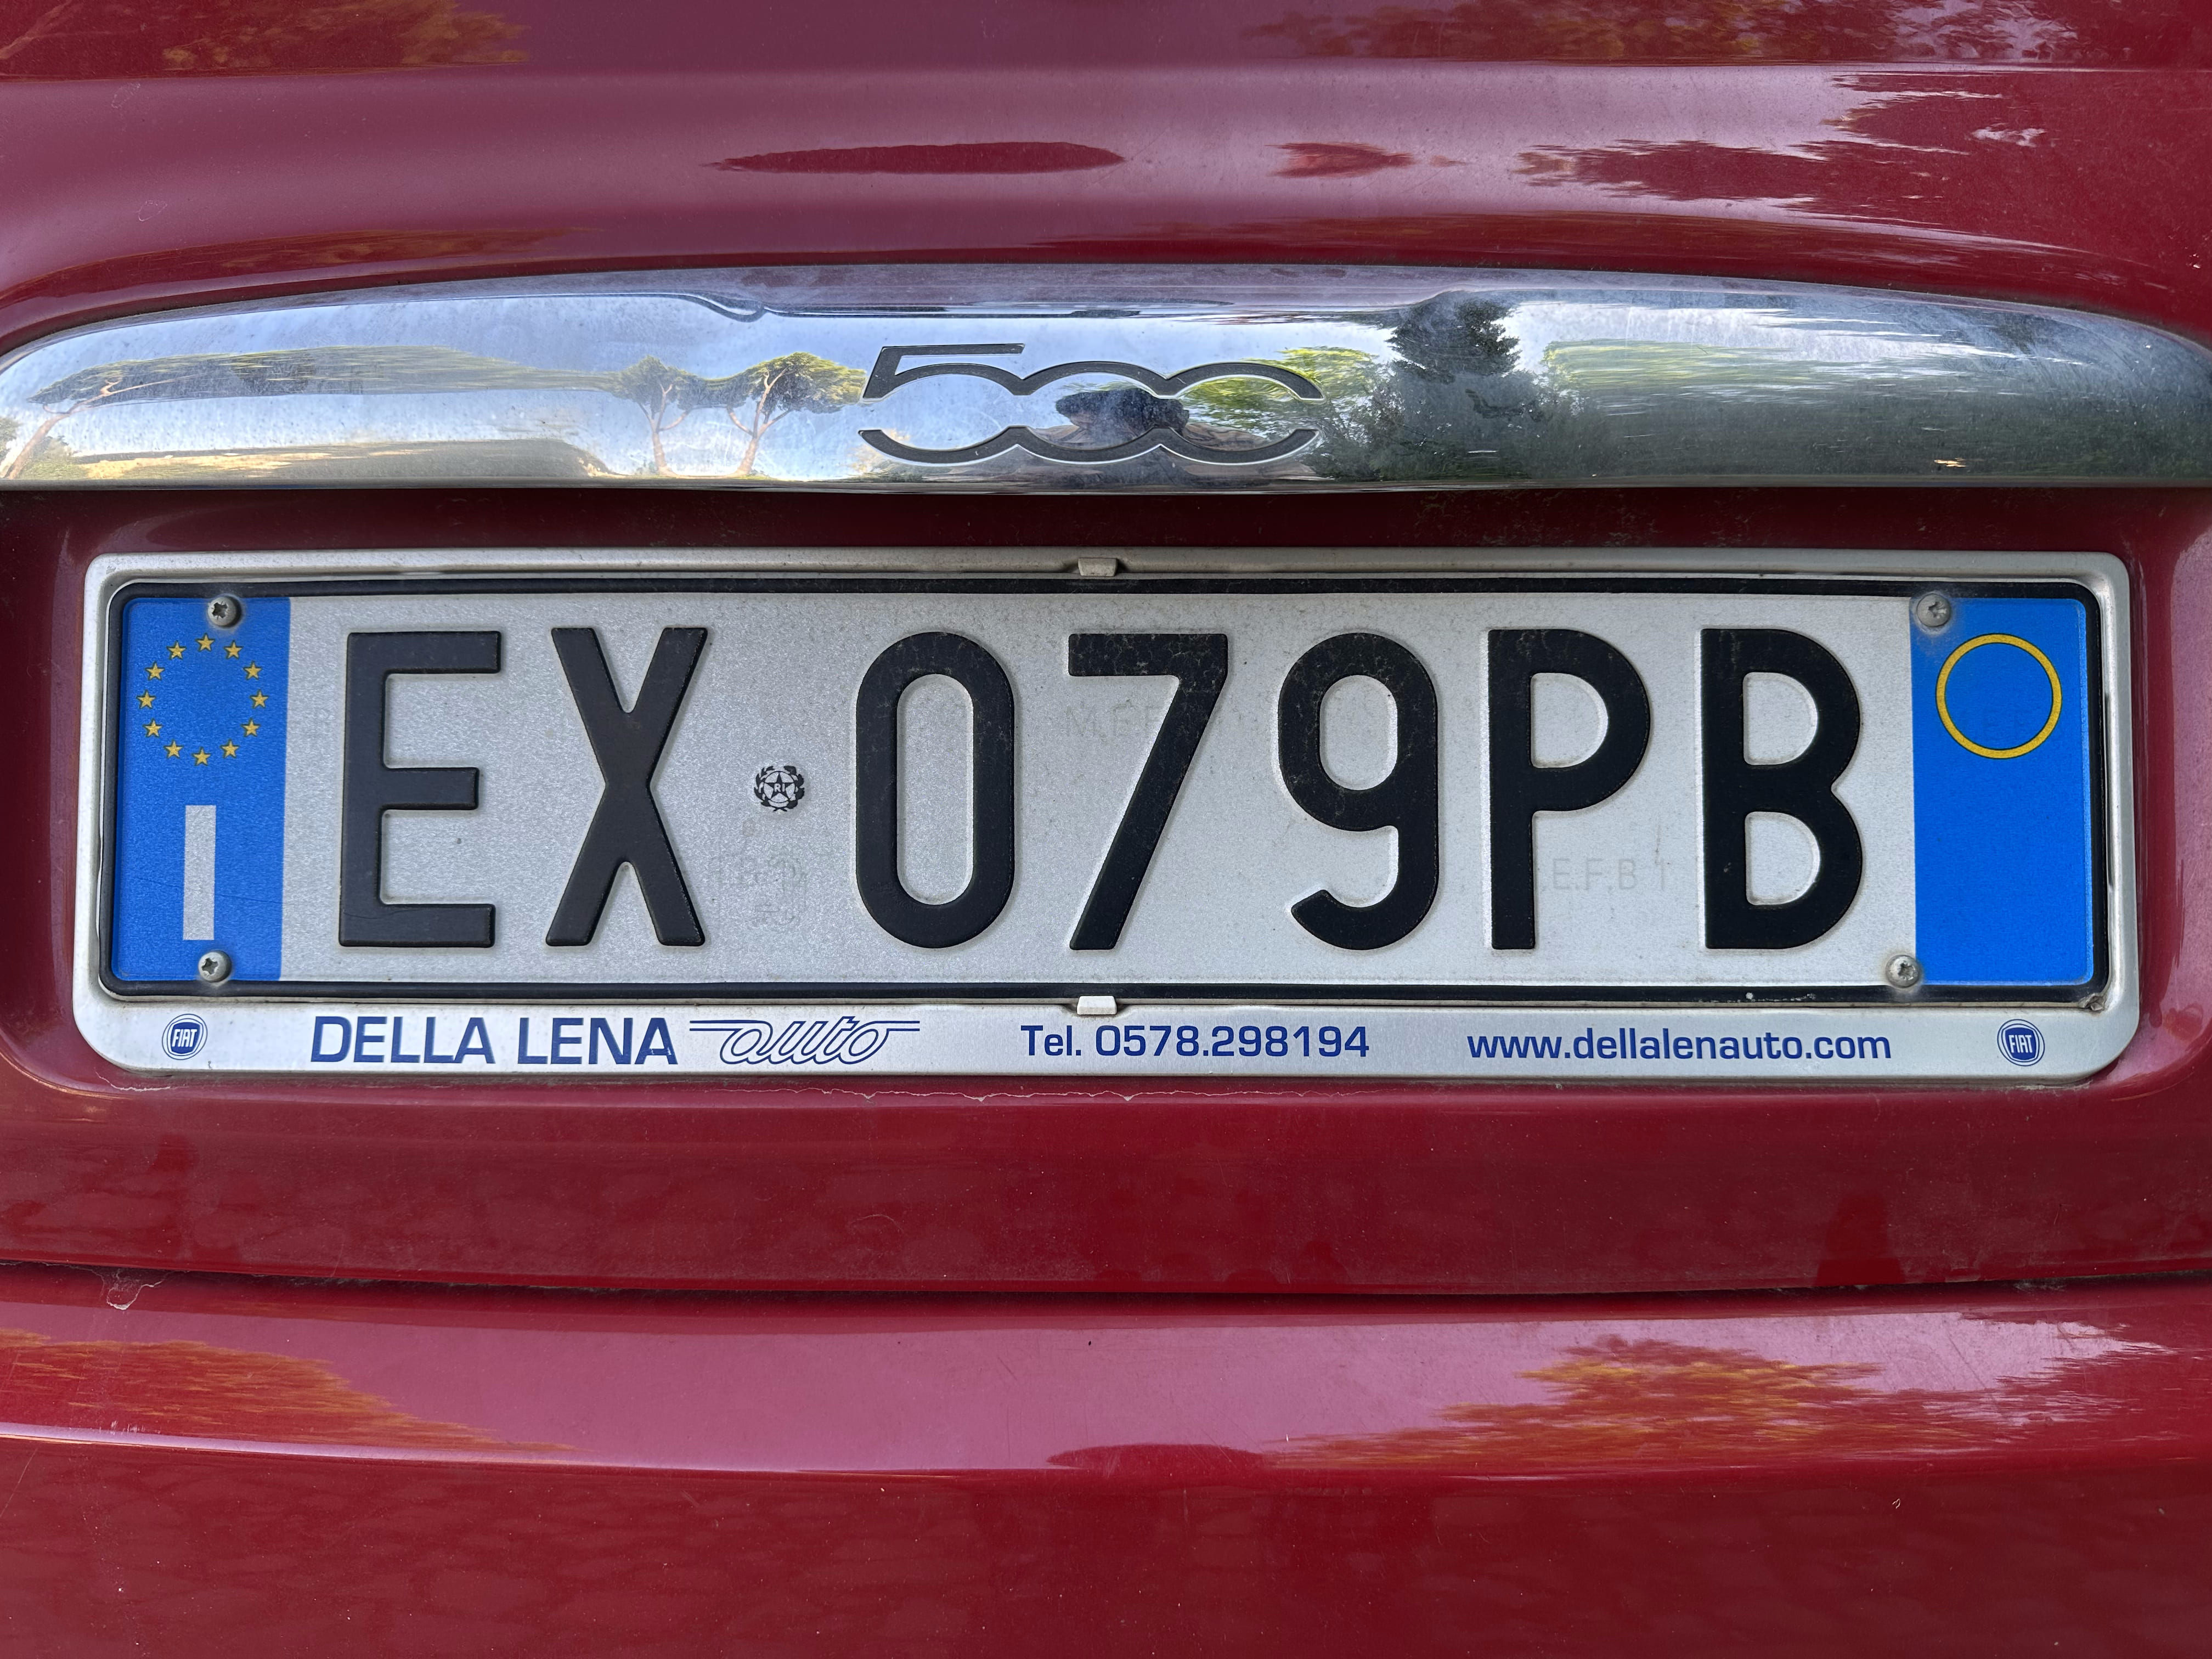license-plate: (93, 574, 2109, 1001)
